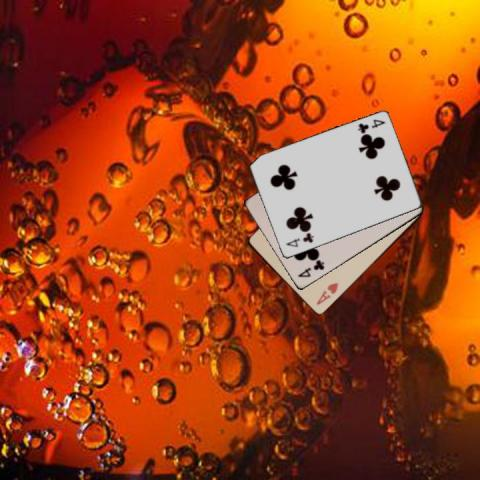4c: (295, 257, 326, 279), (283, 230, 315, 248), (354, 117, 386, 134)
Ah: (313, 280, 340, 307)
